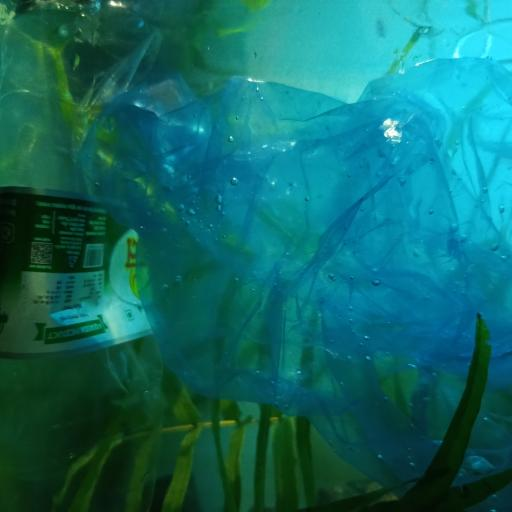plastic_bag: (75, 52, 511, 512)
plastic_bottle: (2, 0, 168, 512)
